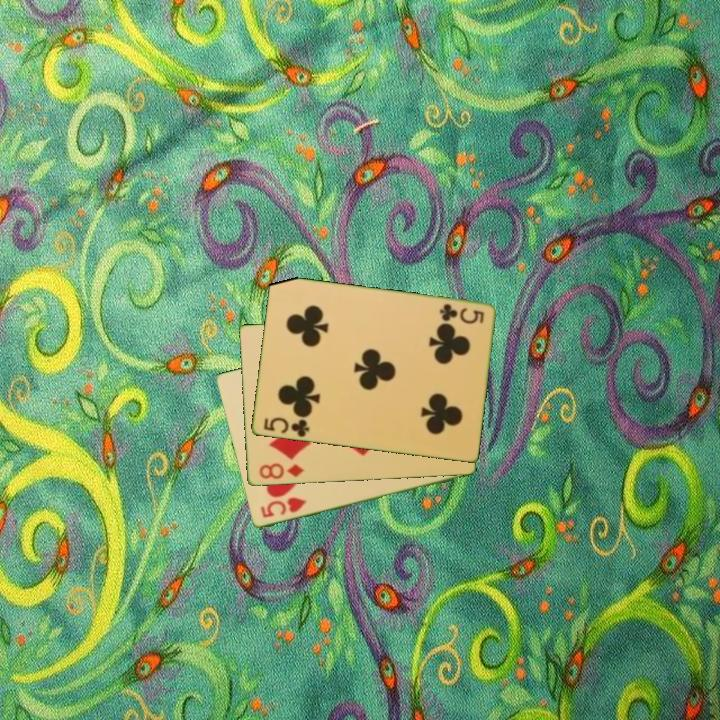5c: (260, 414, 312, 440), (435, 300, 487, 326)
5h: (257, 494, 309, 521)
8d: (255, 460, 306, 482)
